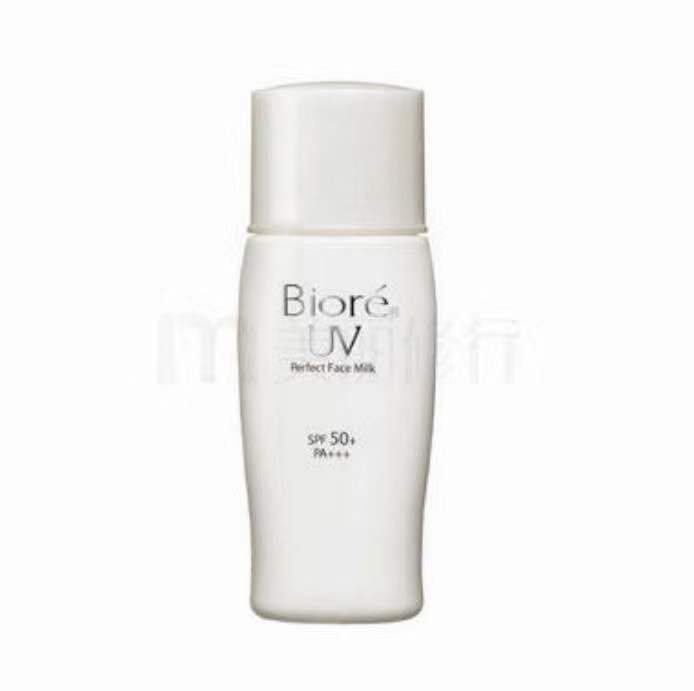cosmetic: (244, 85, 438, 624)
